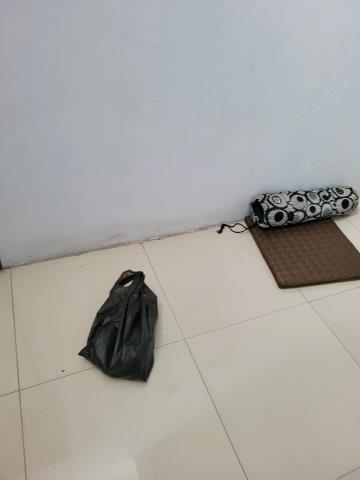plastik: (81, 269, 159, 383)
